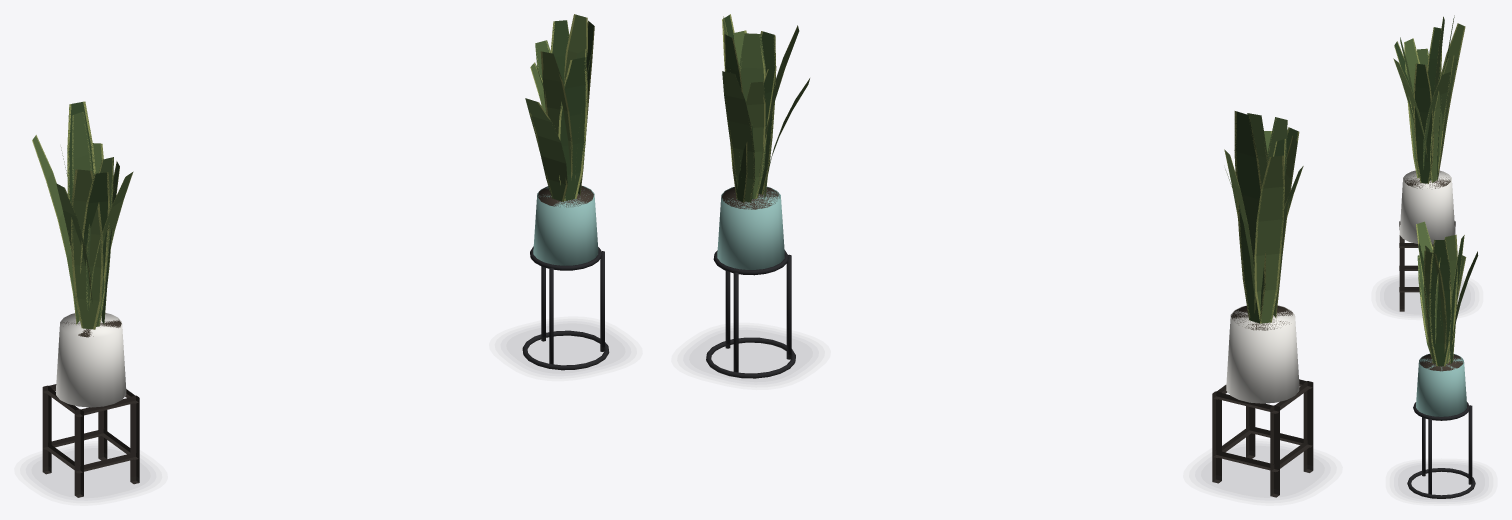
Rendered from _t_plants.glb.
3 renders of one model, left to right at view 1: azimuth 30°, elevation 25°; view 2: azimuth 150°, elevation 25°; view 3: azimuth 270°, elevation 25°, orthographic. The views are drawn at different scales.
Visible parts, largest first — view 1: root; view 2: root; view 3: root.
Part boxes in pixels (<box>): root: <box>31,14,625,497</box>; root: <box>689,14,1324,497</box>; root: <box>1384,15,1484,499</box>.
Size of the model in its own units: 2.39 by 1.36 by 0.5467.
